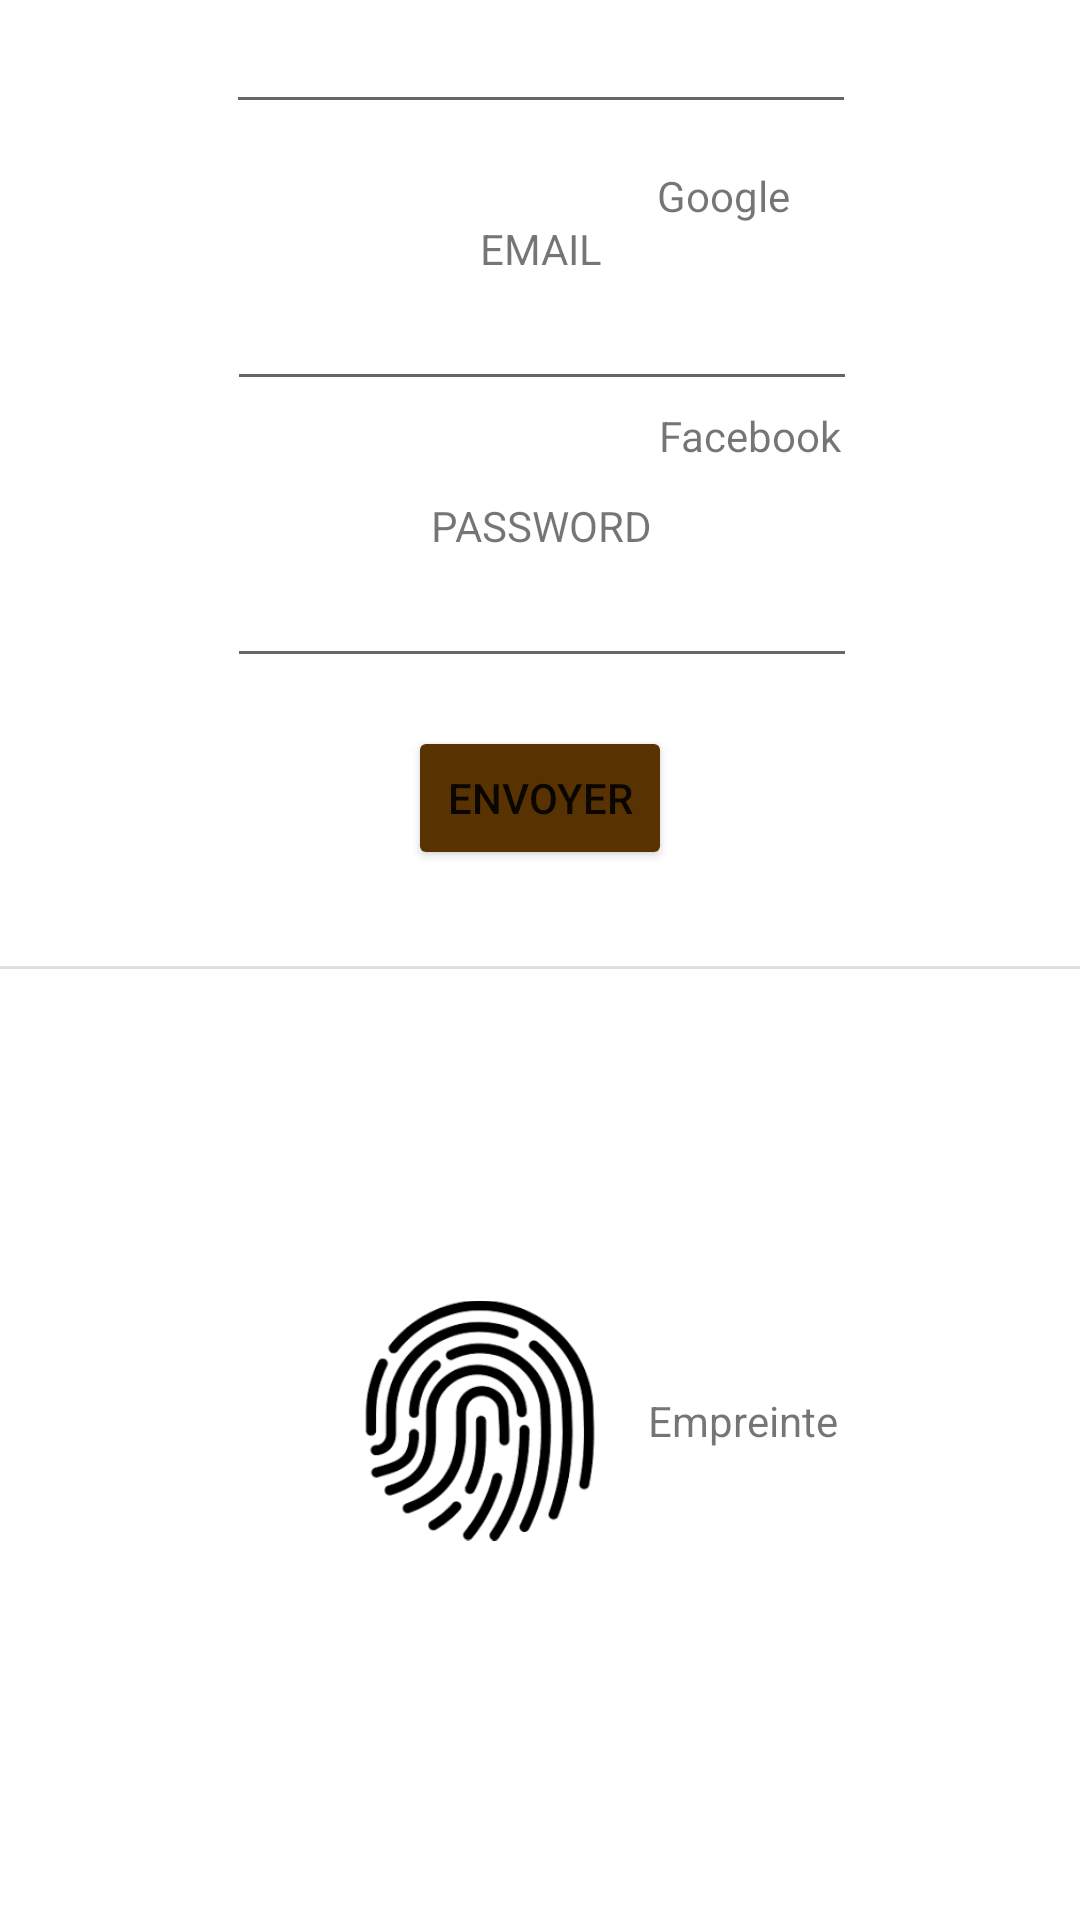

Named icons in this screenshot (1080*1920) and their bounding boxes, bbox=(x1, y1, x2, y2):
fingerprint: bbox=(365, 1301, 595, 1541)
